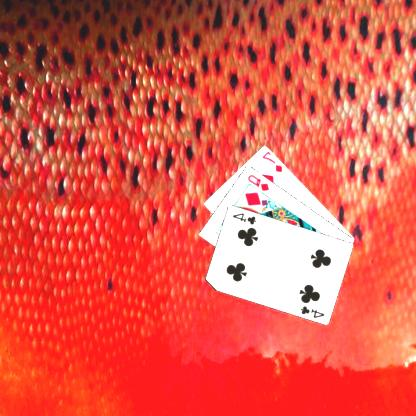4C: (299, 303, 328, 319), (231, 210, 259, 226)
7D: (261, 149, 285, 173)
QD: (247, 171, 272, 192)
